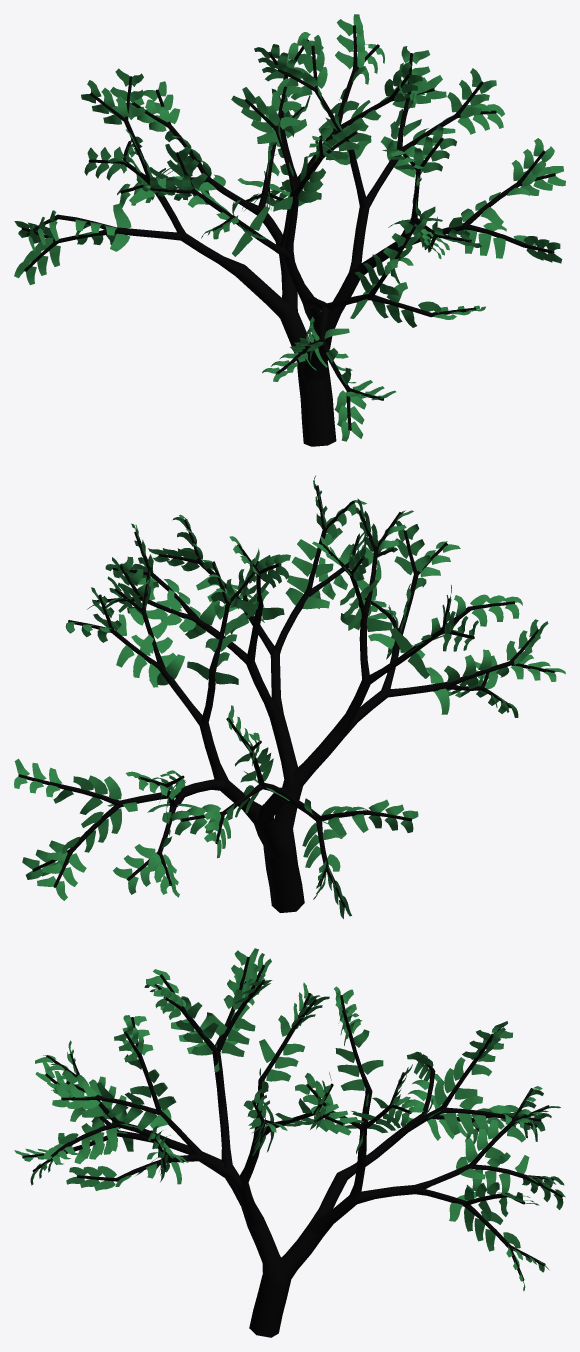
Rendered from Tree.obj.
The picture shows the model from 3 angles, top to bottom: view 1: azimuth 30°, elevation 25°; view 2: azimuth 150°, elevation 25°; view 3: azimuth 270°, elevation 25°; orthographic projection. The views are drawn at different scales.
Visible parts, largest first — view 1: treeSimple1Leaf treeSimple1MeshGroup, treeSimple1MeshGroup treeSimple1Main; view 2: treeSimple1Leaf treeSimple1MeshGroup, treeSimple1MeshGroup treeSimple1Main; view 3: treeSimple1Leaf treeSimple1MeshGroup, treeSimple1MeshGroup treeSimple1Main.
Part boxes in pixels (x1=…): treeSimple1Leaf treeSimple1MeshGroup: x1=14, y1=14, x2=565, y2=441; treeSimple1MeshGroup treeSimple1Main: x1=21, y1=25, x2=555, y2=446; treeSimple1Leaf treeSimple1MeshGroup: x1=14, y1=475, x2=565, y2=918; treeSimple1MeshGroup treeSimple1Main: x1=18, y1=485, x2=554, y2=912; treeSimple1Leaf treeSimple1MeshGroup: x1=14, y1=948, x2=565, y2=1291; treeSimple1MeshGroup treeSimple1Main: x1=22, y1=956, x2=562, y2=1337.
Size of the model in its own units: 1.83 by 1.67 by 2.38.
